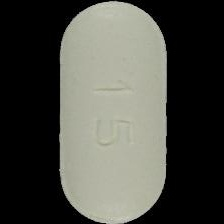43063-401: (0, 0, 224, 224)
